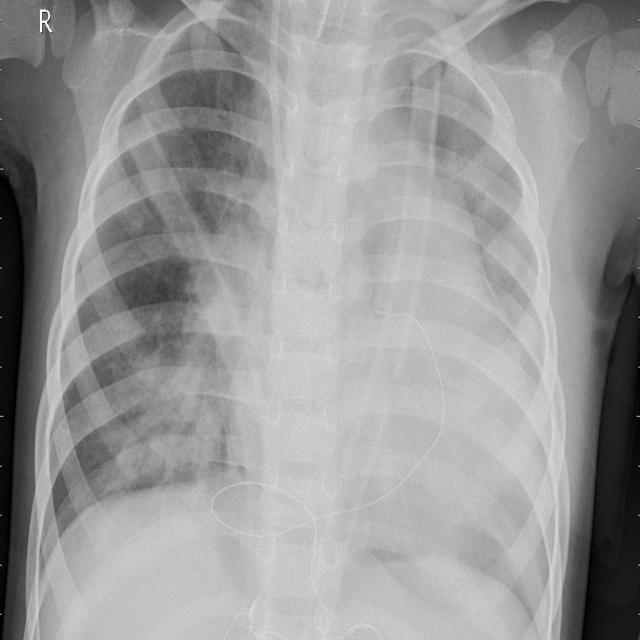high-pneumonia: (452, 237, 570, 600)
low-pneumonia: (114, 299, 227, 491), (195, 93, 272, 346), (390, 62, 516, 216)
